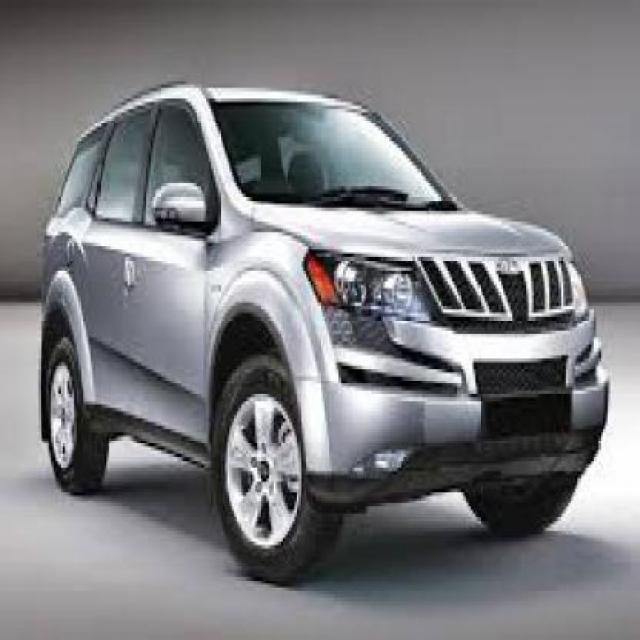vehicle: (32, 57, 616, 600)
